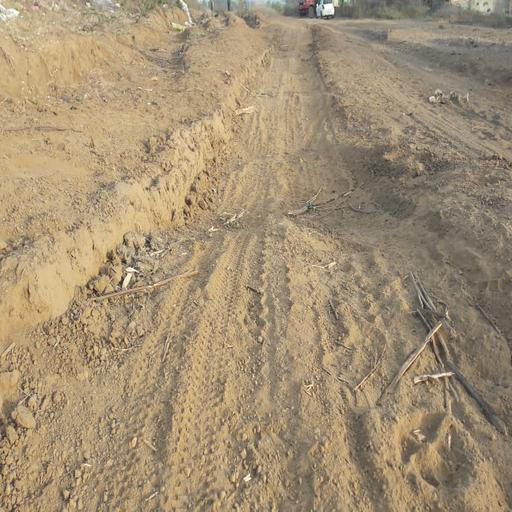vehicle_track: (65, 27, 512, 512)
